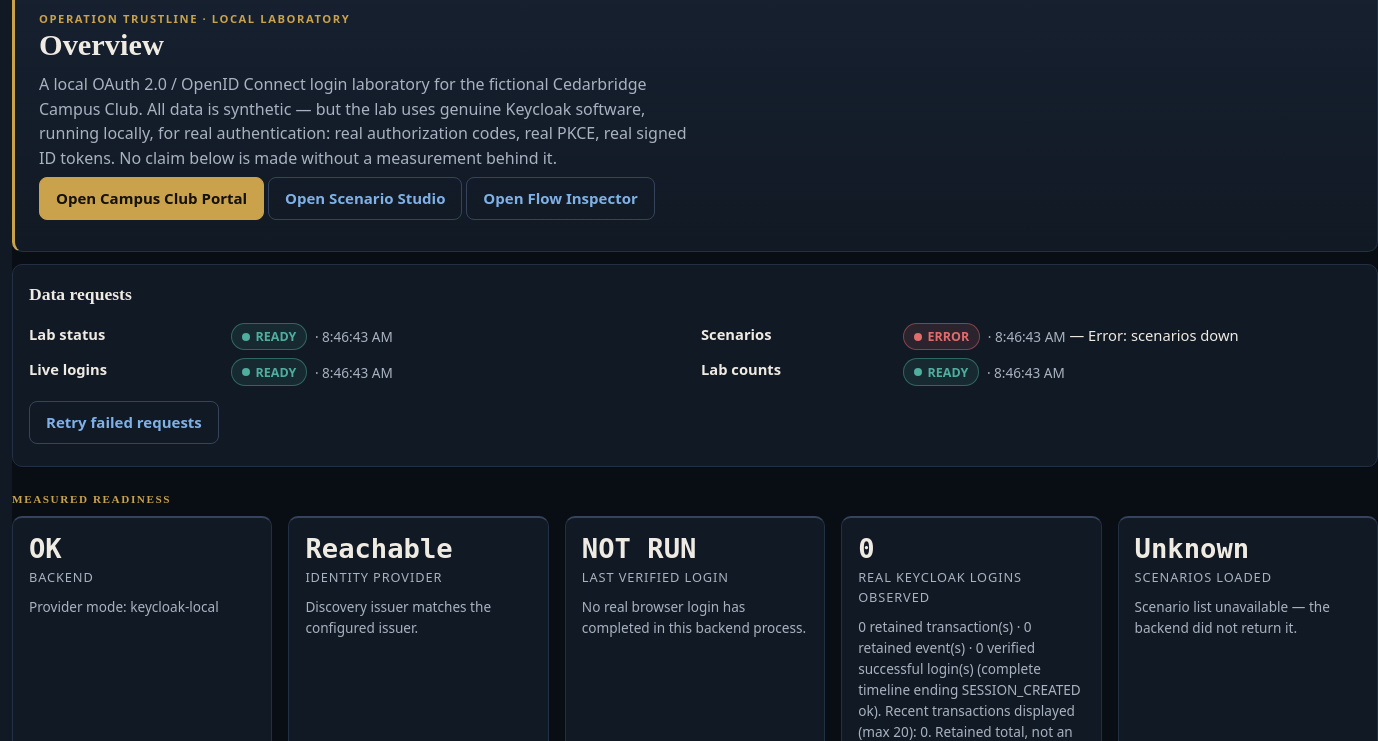
Test: Overview stale green VERIFIED (IF-V6-03, failing-first) › READY → retry rejects → STALE: zero current VERIFIED labels, past-tense Last verified chip
The width and height of the screenshot is (1378, 741).
Click the button "Retry failed requests" at (124, 422), box [29,401,219,444]
(page scrolled)
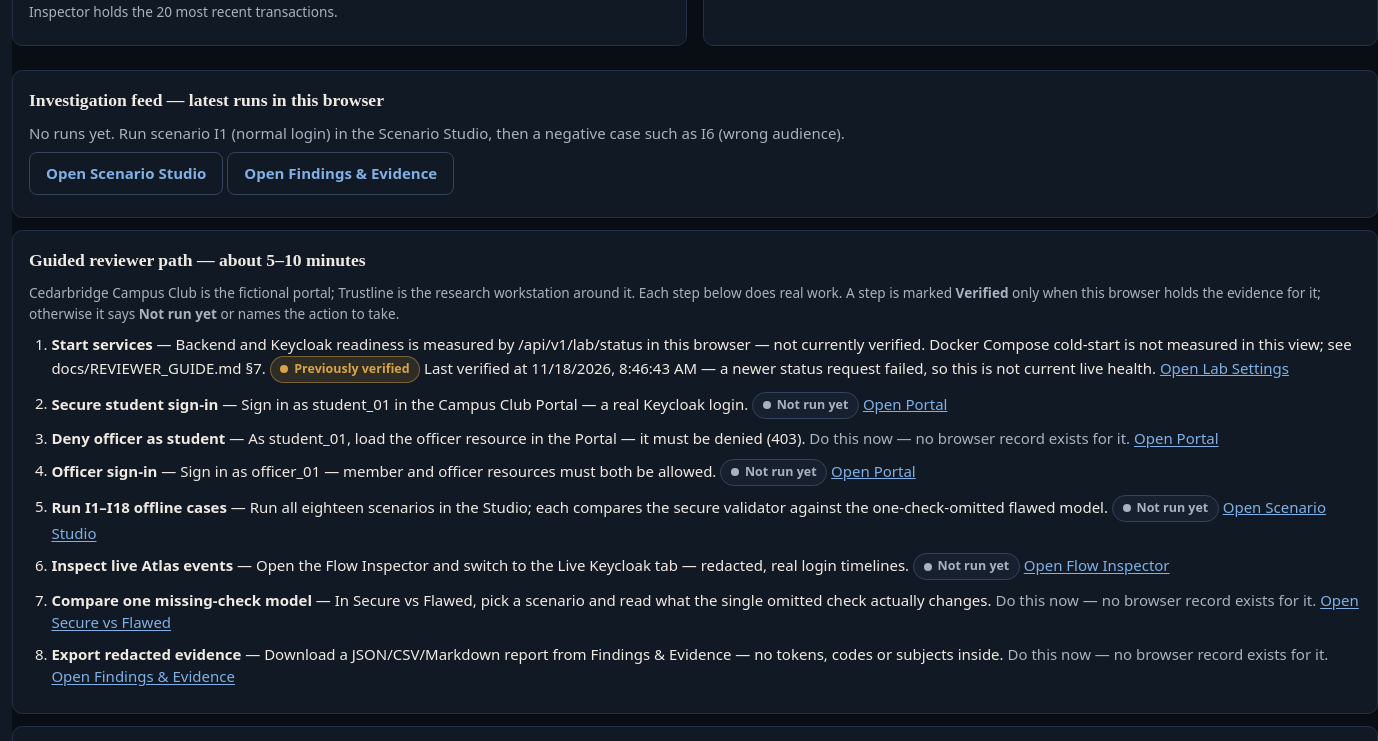
Check: the list item "Last verified at" is shown, box [420,357,1156,377]
